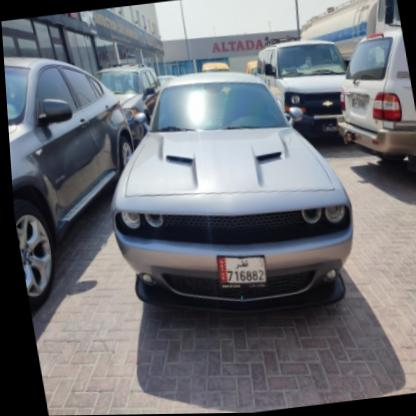np: (211, 250, 267, 296)
